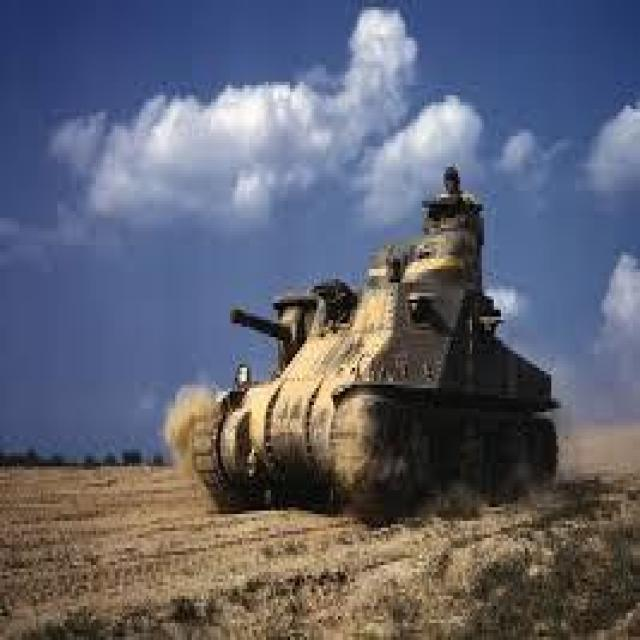MIL_MBT: (185, 192, 563, 526)
